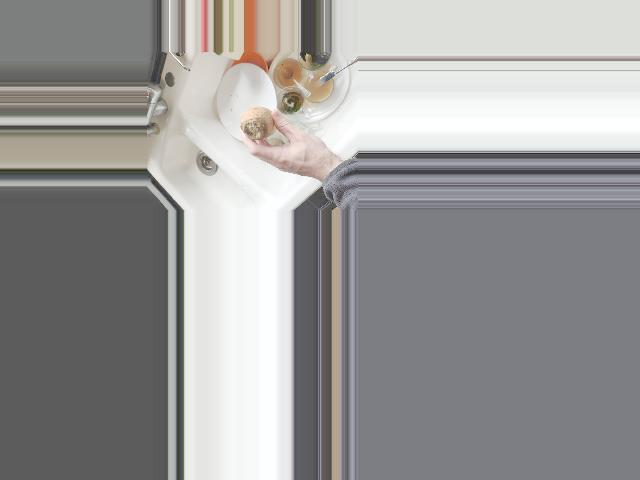sweet_potato: (238, 105, 283, 141)
